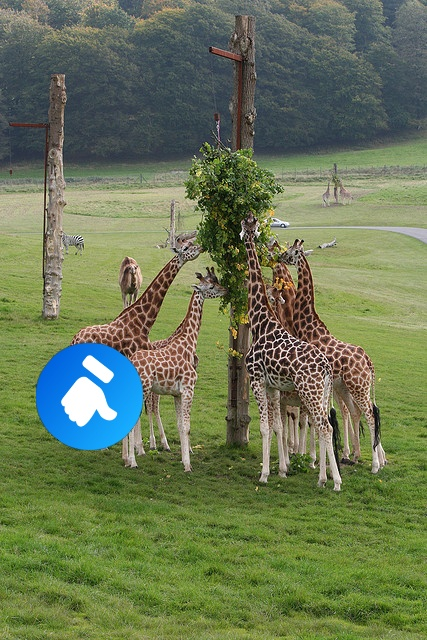like: (36, 343, 143, 450)
